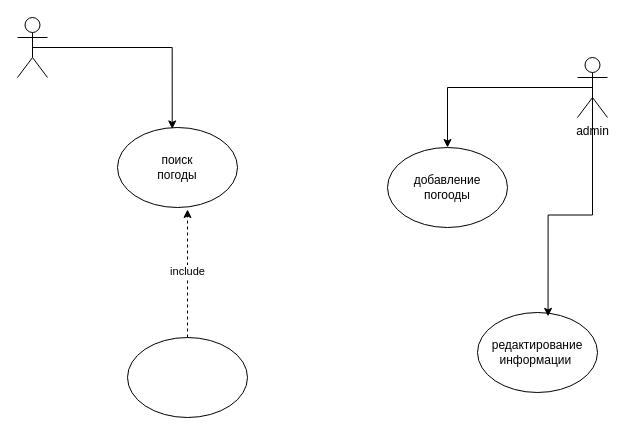
This 626x435 diagram has some shape labels left out. Here are the shapes that lost their labels. From the top down, the centre of each, then its label:
At [32,47]: "user".
At [187,377]: "поиск по городу".
